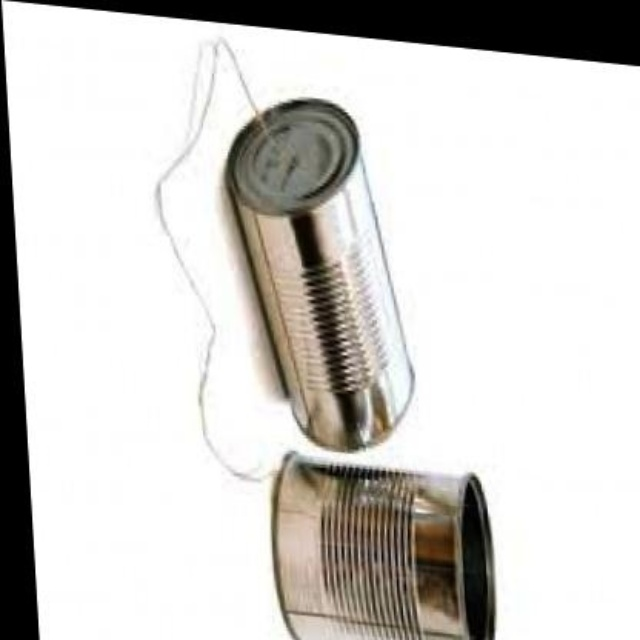trash: (226, 98, 412, 449), (272, 454, 494, 638)
